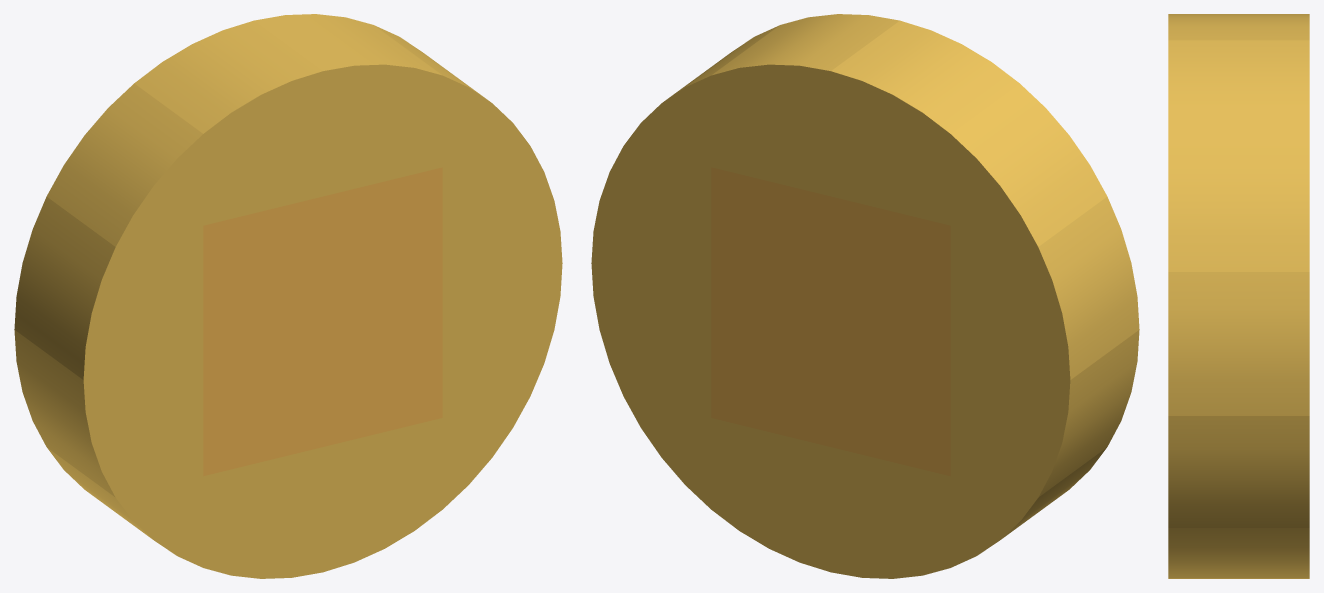
File: coingold.glb
The picture shows the model from 3 angles, left to right: view 1: azimuth 30°, elevation 25°; view 2: azimuth 150°, elevation 25°; view 3: azimuth 270°, elevation 25°; orthographic projection. The views are drawn at different scales.
Visible parts, largest first — view 1: generated(Clone); view 2: generated(Clone); view 3: generated(Clone).
Boxes of the visible parts, left/top/right/bottom form: generated(Clone): left=14, top=14, right=562, bottom=578; generated(Clone): left=591, top=14, right=1139, bottom=578; generated(Clone): left=1168, top=14, right=1309, bottom=578.
Size of the model in its own units: 2 by 2 by 0.5.
